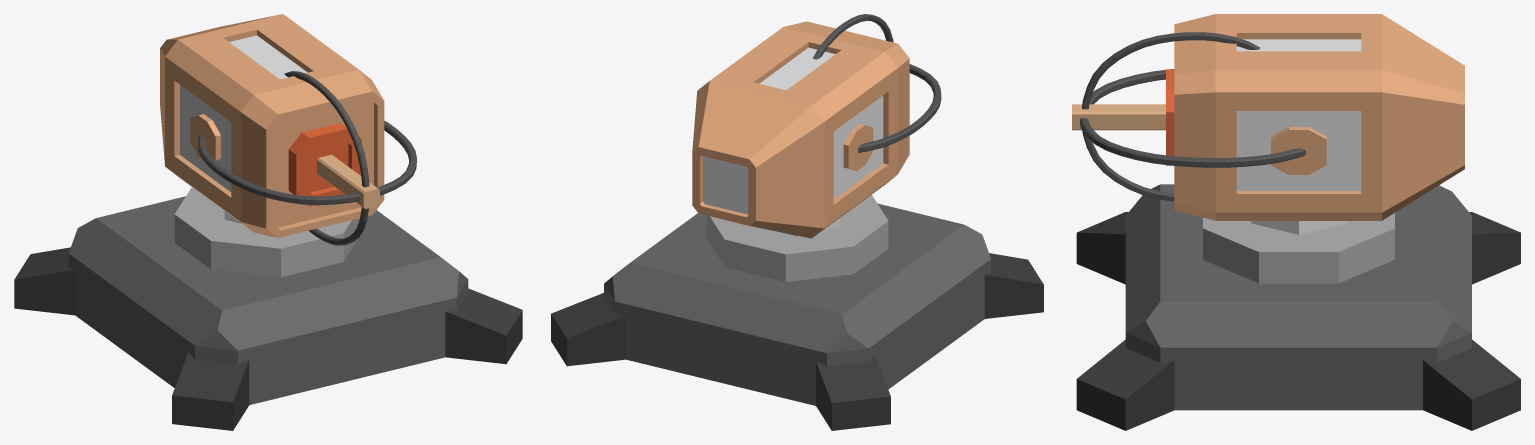
Rendered from Laser_TD_3.fbx.
The picture shows the model from 3 angles, left to right: view 1: azimuth 30°, elevation 25°; view 2: azimuth 150°, elevation 25°; view 3: azimuth 270°, elevation 25°; orthographic projection. The views are drawn at different scales.
Visible parts, largest first — view 1: Stand.003, Cube.006; view 2: Stand.003, Cube.006; view 3: Stand.003, Cube.006.
Part boxes in pixels (bbox=[...]): Stand.003: bbox=[14, 187, 522, 430]; Cube.006: bbox=[160, 14, 416, 245]; Stand.003: bbox=[551, 194, 1043, 430]; Cube.006: bbox=[692, 14, 941, 238]; Stand.003: bbox=[1076, 184, 1520, 430]; Cube.006: bbox=[1072, 14, 1464, 220].
Size of the model in its own units: 641 by 484 by 648.
